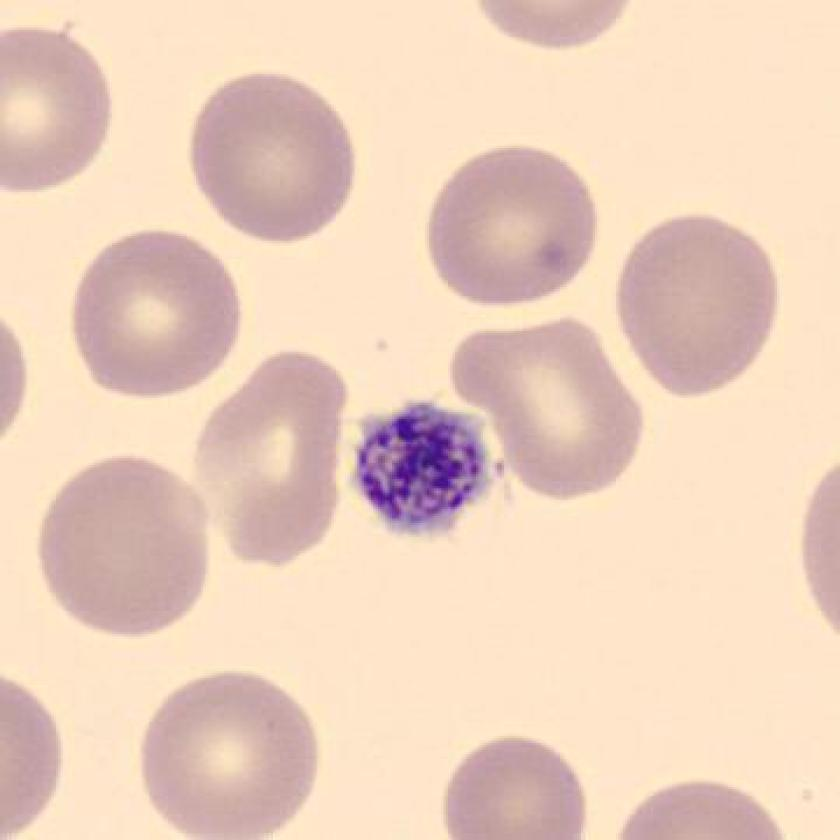platelets: (340, 390, 515, 552)
